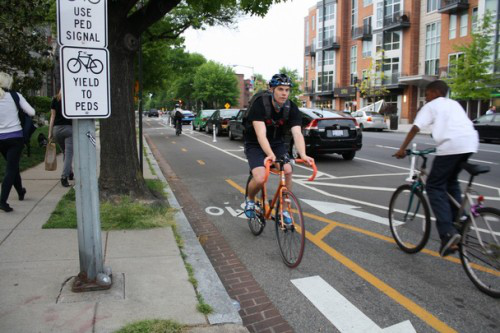bikerider: (380, 73, 500, 289), (231, 67, 323, 276), (165, 97, 186, 141)
